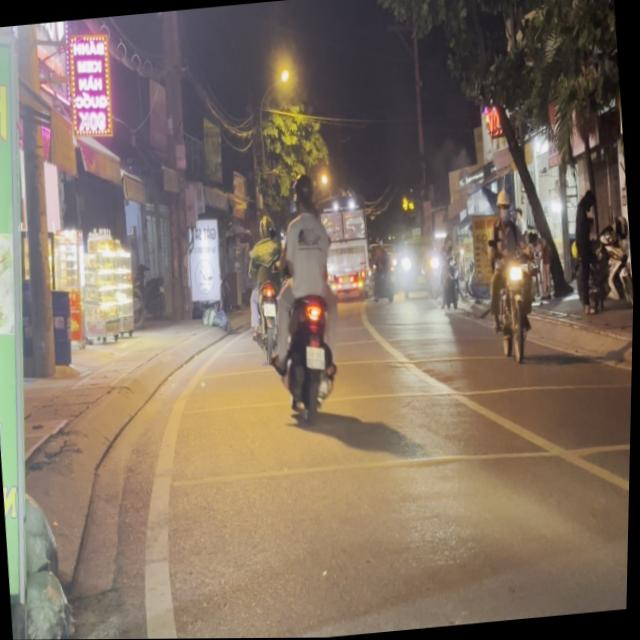helmet: (293, 173, 318, 215), (496, 187, 514, 219)
licenseplate: (262, 168, 353, 430), (479, 185, 544, 365)
nohelmet: (306, 345, 328, 371)
